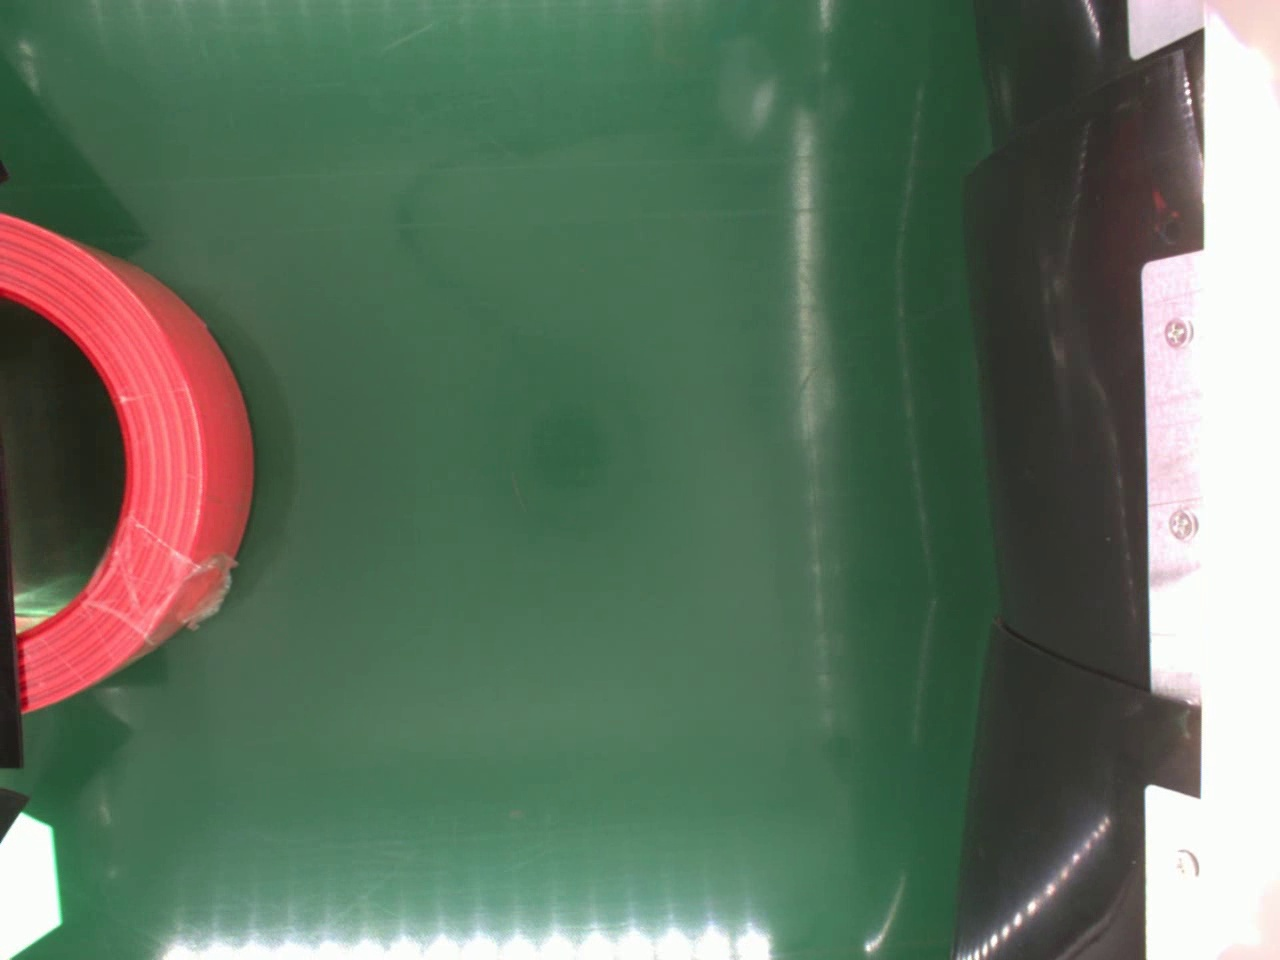red: (0, 210, 256, 713)
